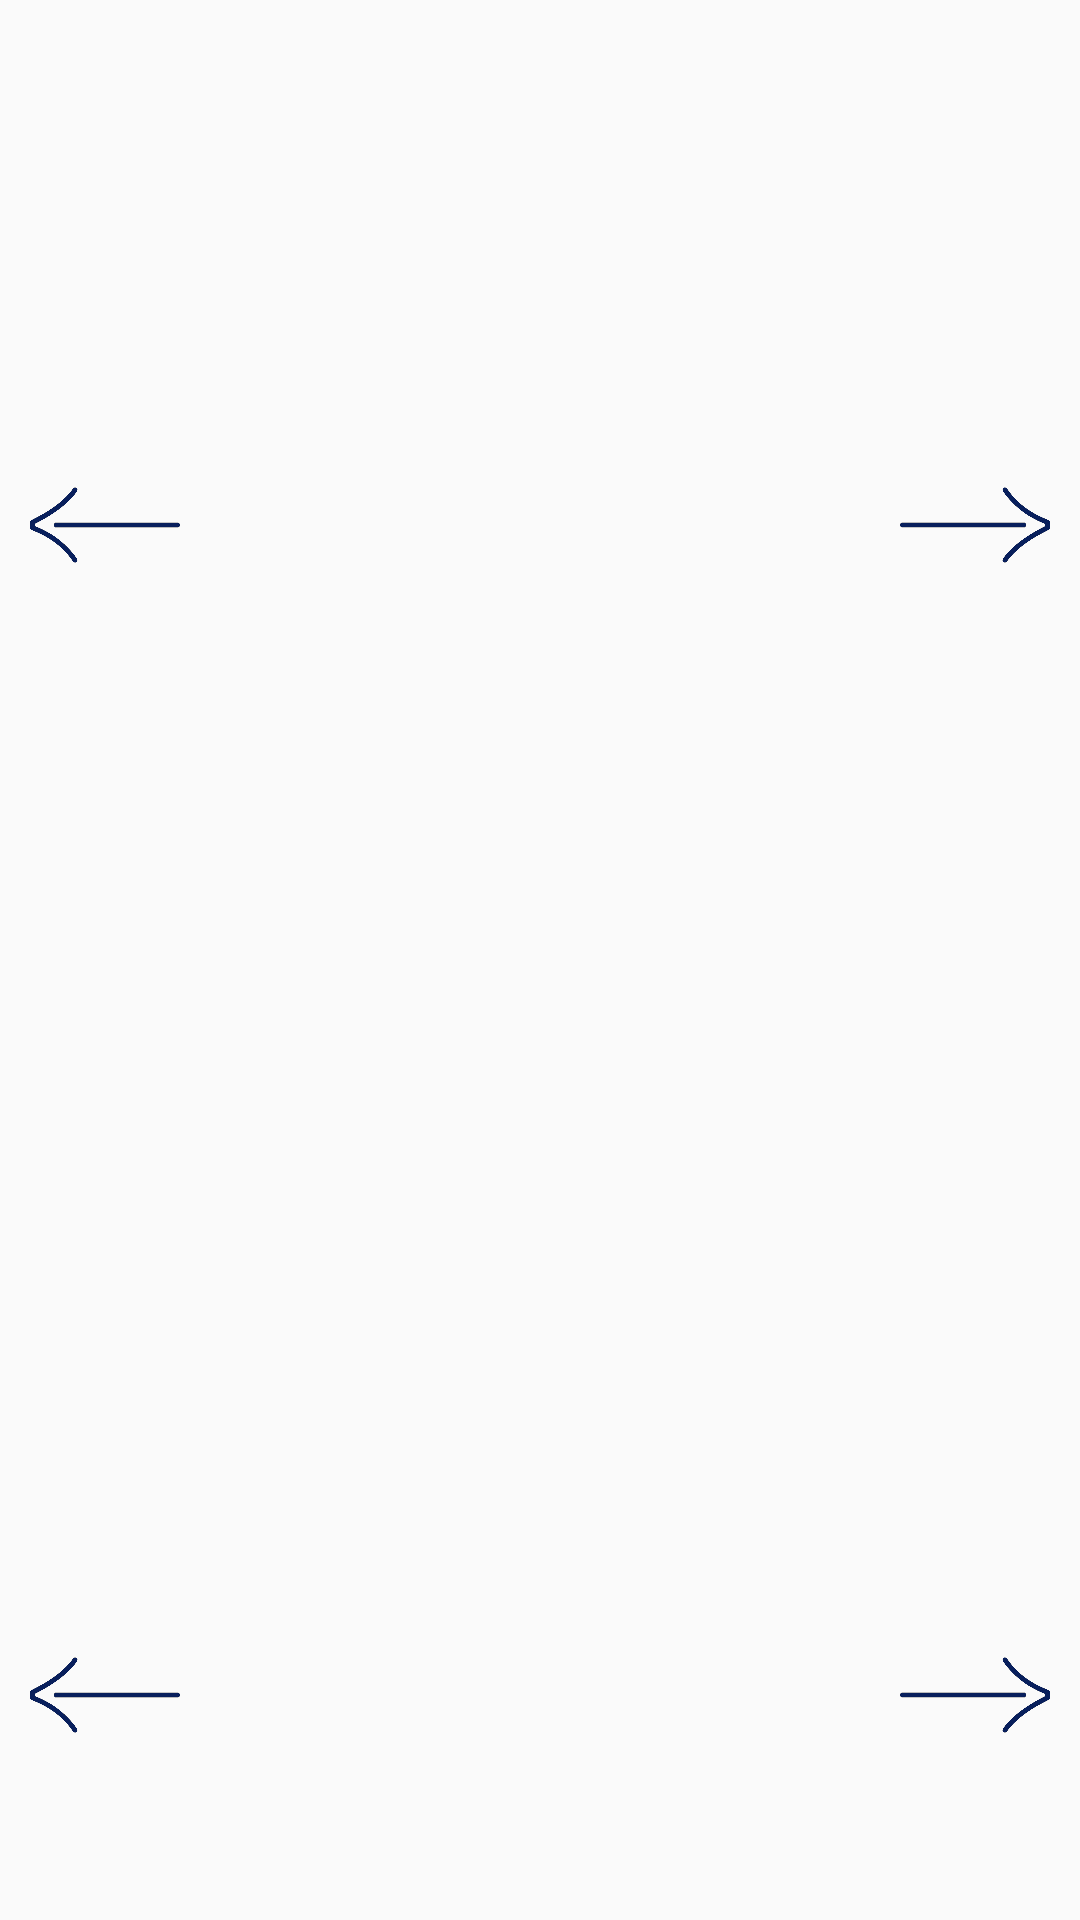

Icons on this 1080x1920 Android screen, each with the point to tap as (x,y):
arrowleft: (105,525), (105,1695)
arrowright: (975,525), (975,1695)
